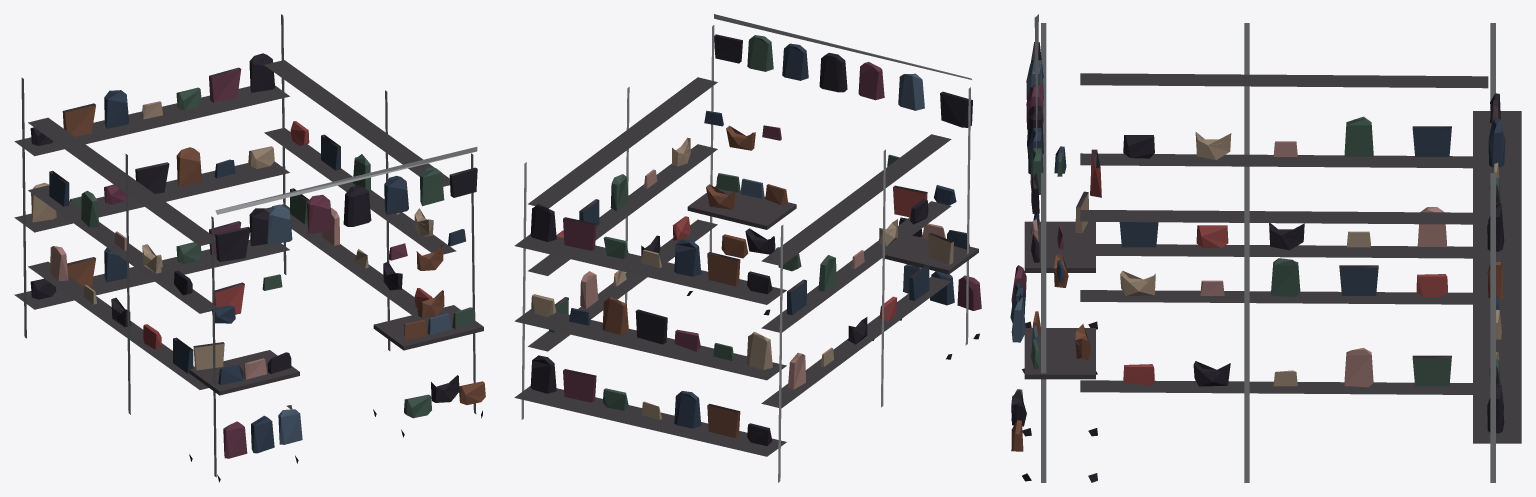
The model's file is distant.glb.
3 renders of one model, left to right at view 1: azimuth 30°, elevation 25°; view 2: azimuth 150°, elevation 25°; view 3: azimuth 270°, elevation 25°, orthographic. The views are drawn at different scales.
Parts seen in each view (by area): view 1: Hessed; view 2: Hessed; view 3: Hessed.
Boxes of the visible parts, bbox=[...] form: Hessed: bbox=[14, 14, 485, 482]; Hessed: bbox=[514, 14, 981, 482]; Hessed: bbox=[1010, 14, 1521, 482].
Size of the model in its own units: 2.62 by 2.54 by 3.7.
